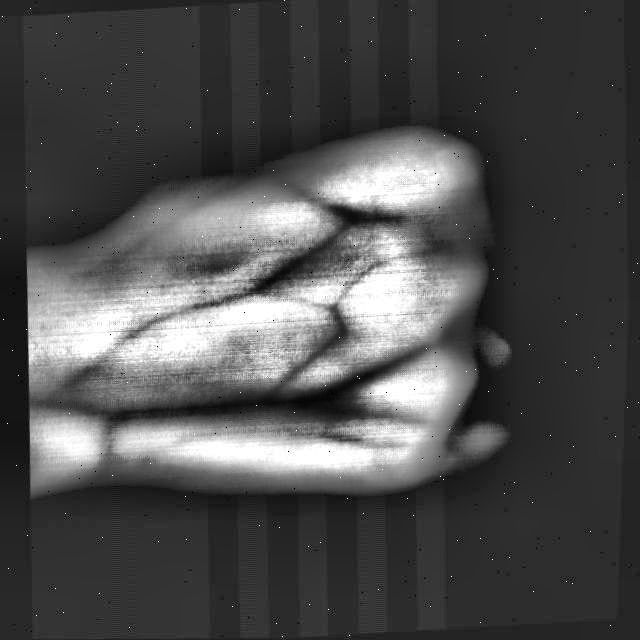Vein: (120, 385, 313, 426)
